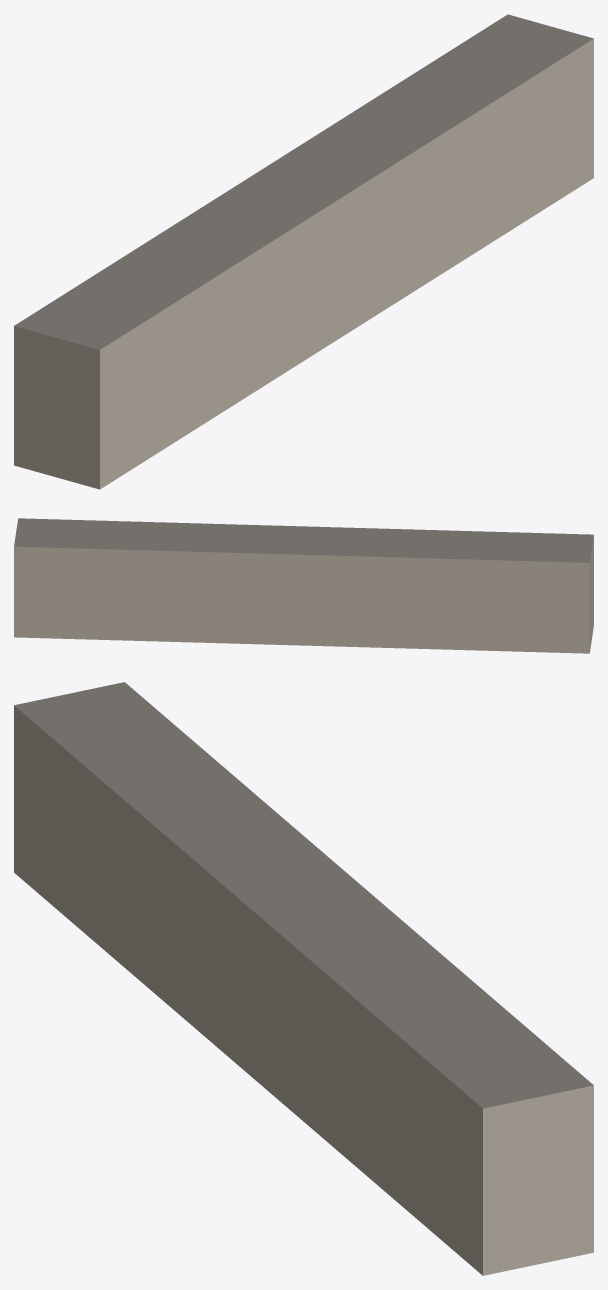
3 renders of one model, top to bottom at view 1: azimuth 30°, elevation 25°; view 2: azimuth 150°, elevation 25°; view 3: azimuth 270°, elevation 25°, orthographic. The views are drawn at different scales.
Visible parts, largest first — view 1: HP-w1289027554; view 2: HP-w1289027554; view 3: HP-w1289027554.
Boxes of the visible parts, <box> form: HP-w1289027554: <box>14,14,593,489</box>; HP-w1289027554: <box>14,518,593,653</box>; HP-w1289027554: <box>14,682,593,1275</box>.
Bounding box in the file's own units: 98.44 × 18 × 56.56.
